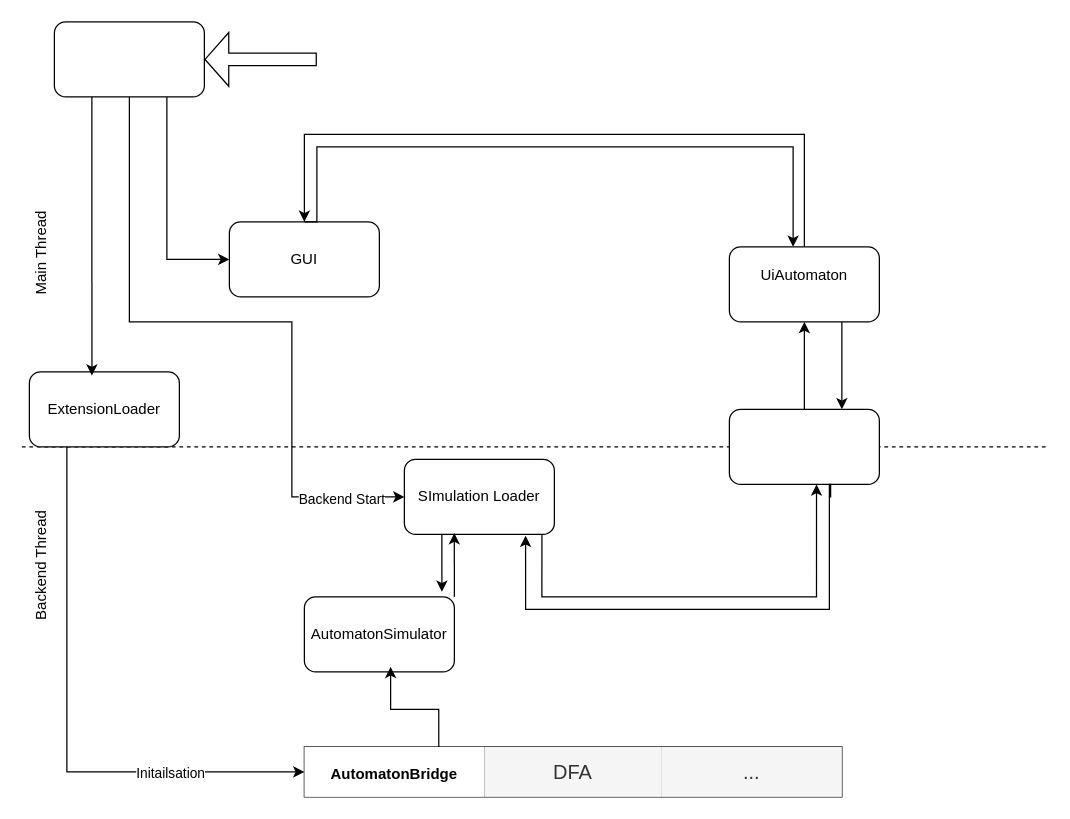
Image size: 1070x819. Some labels were removed from this diagram. The box of each missing label's shape, as (x1, y1, x2, y2) in pixels:
Bridge: (728, 408, 879, 484)
Main App: (53, 21, 204, 97)
